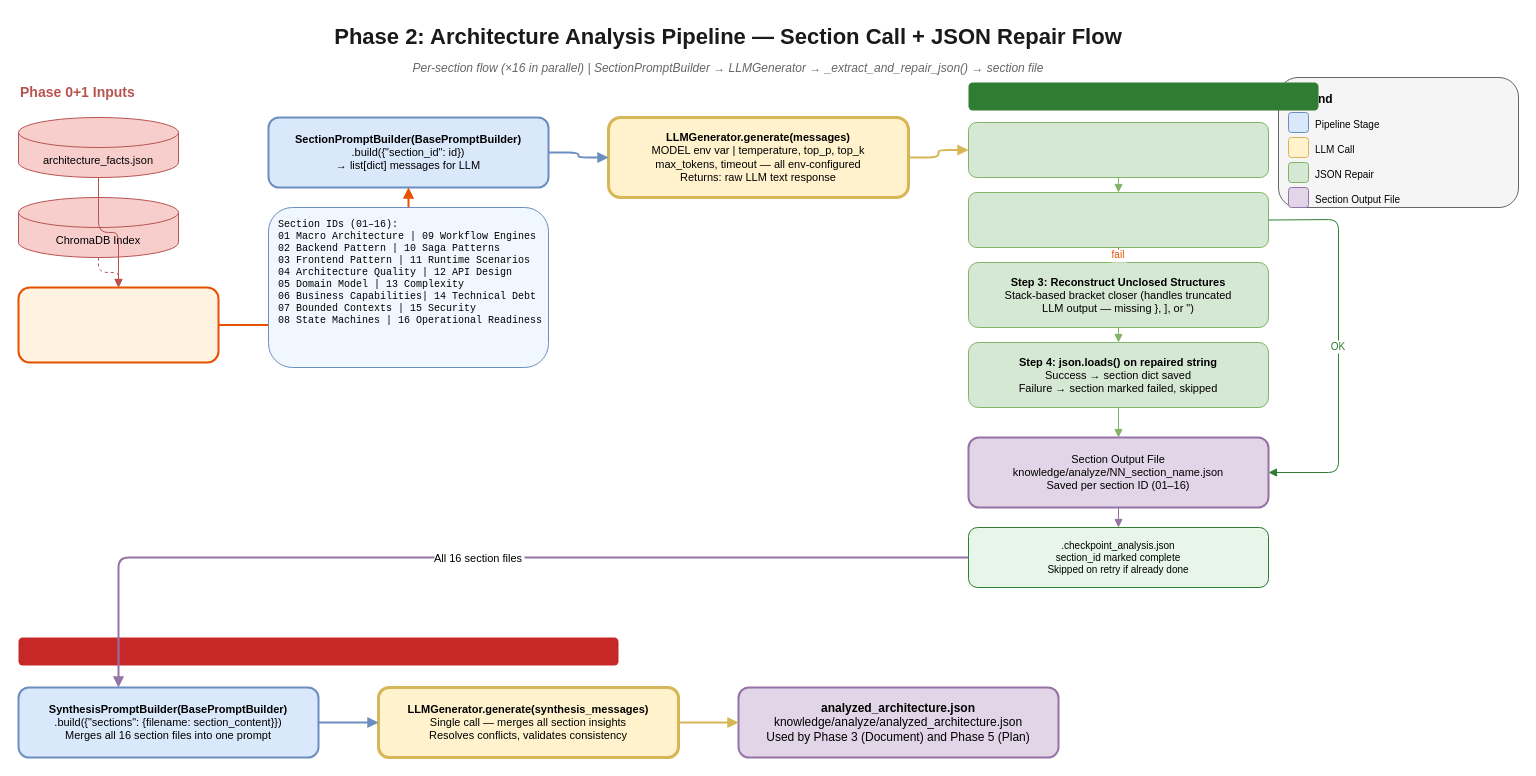
Some shapes in this 1536 by 776 pixel diagram are drawn without their labels. The shapes that lost their labels are listed below. From the top down, each one's centre as x and y in pixels, then its label:
At point (1143, 96): "_extract_and_repair_json() — JSON Repair Pipeline".
At point (1118, 150): "Step 1: Strip Markdown Fences Remove ```json ... ``` wrappers".
At point (1118, 220): "Step 2: Direct json.loads() Try direct parse — success → done".
At point (118, 324): "DataCollector collect_section_data(section_id) Serves per-section context slice".
At point (318, 651): "After all 16 sections complete → SYNTHESIS CALL".
